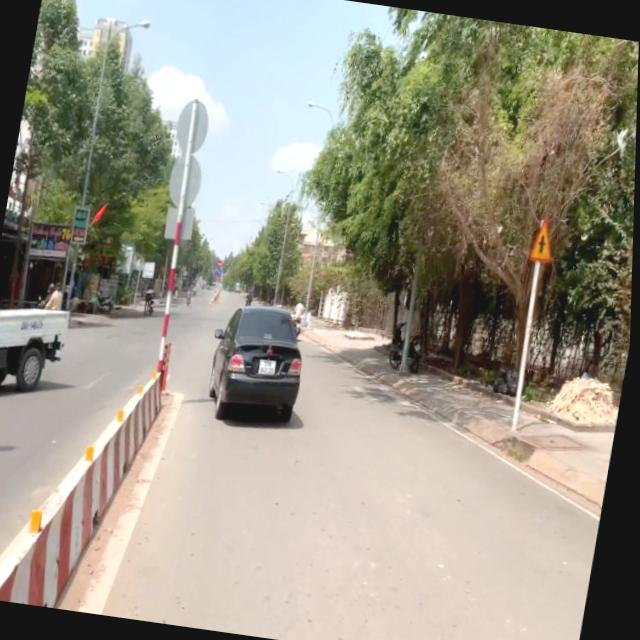Giao nhau voi duong khong uu tien: (529, 216, 560, 266)
